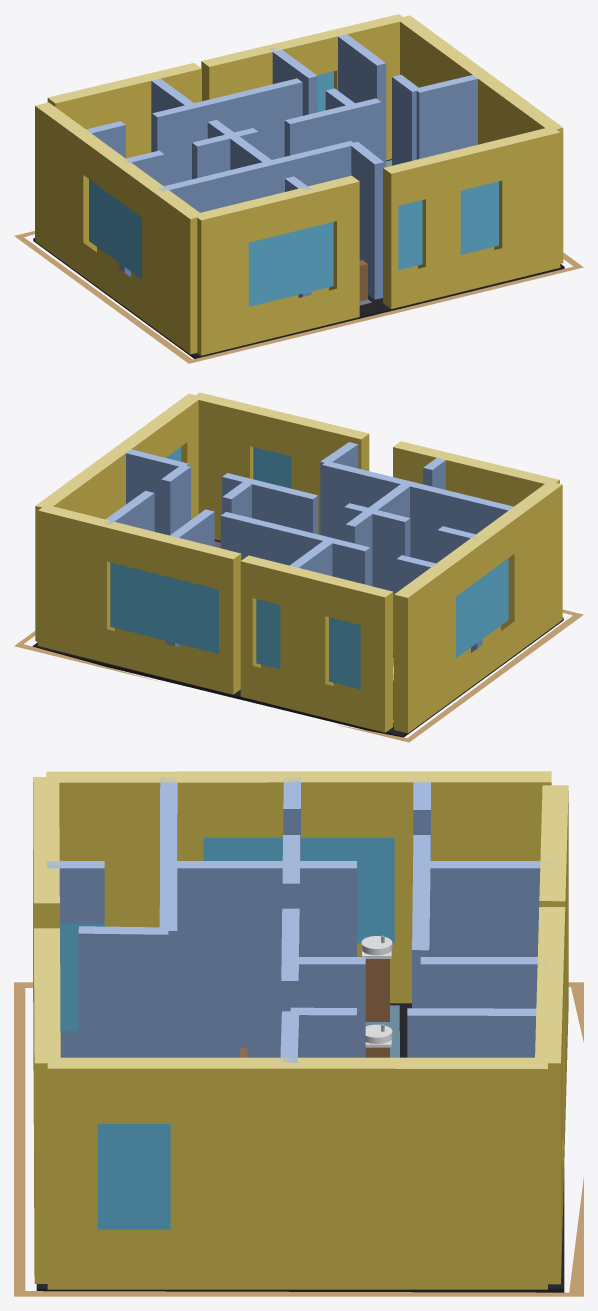
The model's file is building_v3_roomwalls.obj.
The picture shows the model from 3 angles, top to bottom: view 1: azimuth 30°, elevation 25°; view 2: azimuth 150°, elevation 25°; view 3: azimuth 270°, elevation 25°; orthographic projection. The views are drawn at different scales.
Visible parts, largest first — view 1: Building; view 2: Building; view 3: Building.
Boxes of the visible parts, bbox=[...] form: Building: bbox=[14, 14, 583, 363]; Building: bbox=[14, 392, 583, 742]; Building: bbox=[14, 771, 583, 1296].
Size of the model in its own units: 8.55 by 2.87 by 6.55.
